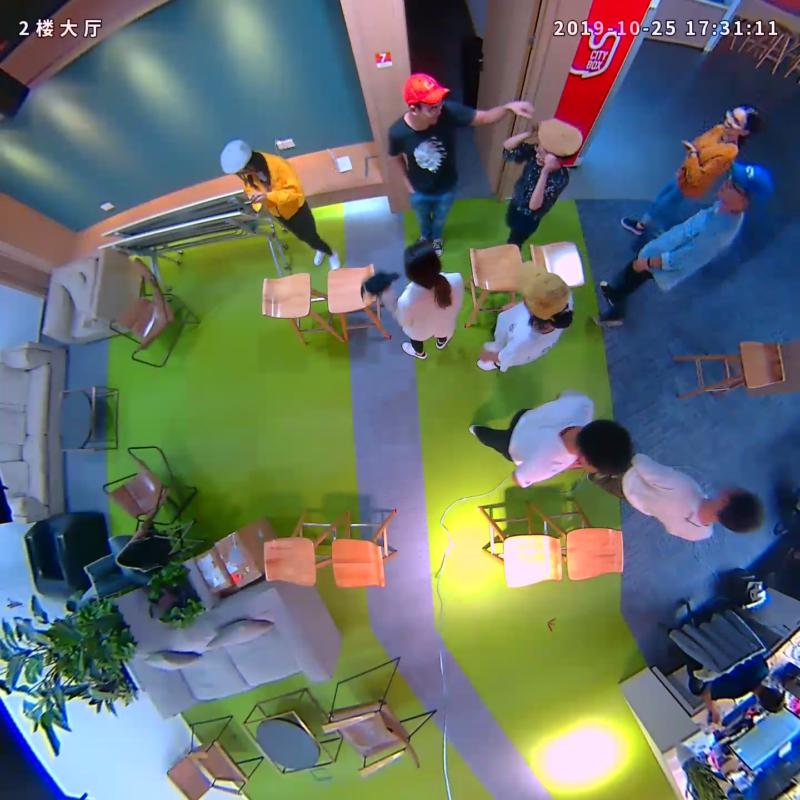head: (512, 261, 571, 318), (575, 420, 632, 477), (402, 71, 451, 126), (716, 161, 771, 209), (715, 485, 764, 534), (535, 115, 583, 165), (402, 240, 441, 286), (220, 140, 256, 177), (722, 103, 758, 136)
